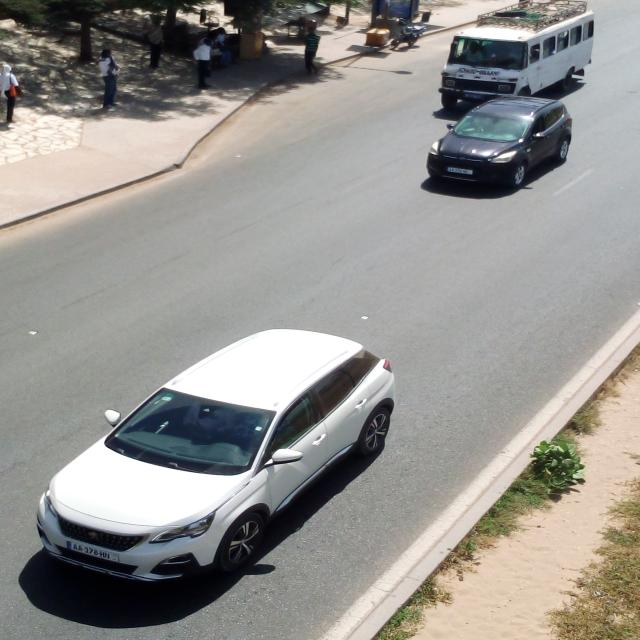moto: (391, 21, 428, 51)
ndiaga ndiaye: (441, 1, 596, 110)
particulier: (38, 330, 396, 582), (428, 97, 573, 189)
